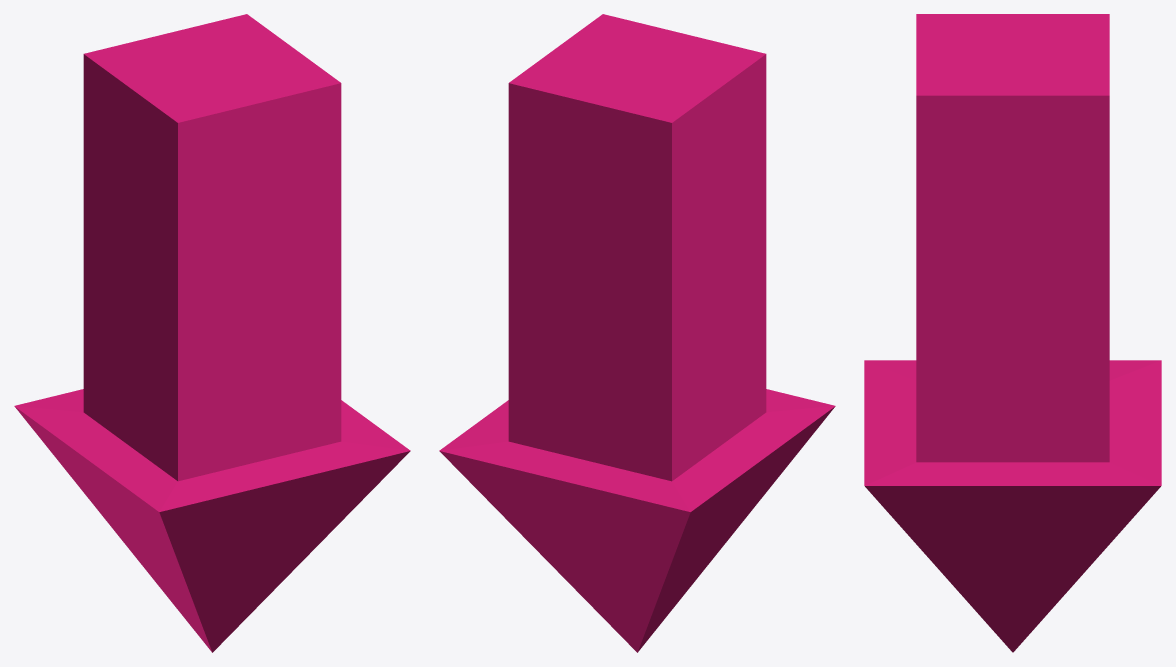
The model's file is arrow_fbx.fbx.
The picture shows the model from 3 angles, left to right: view 1: azimuth 30°, elevation 25°; view 2: azimuth 150°, elevation 25°; view 3: azimuth 270°, elevation 25°; orthographic projection. The views are drawn at different scales.
Visible parts, largest first — view 1: arrow; view 2: arrow; view 3: arrow.
Part boxes in pixels (left/top/right/bottom): arrow: left=14, top=14, right=410, bottom=652; arrow: left=439, top=14, right=835, bottom=652; arrow: left=864, top=14, right=1161, bottom=652.
Size of the model in its own units: 3.48 by 7.72 by 3.48.
